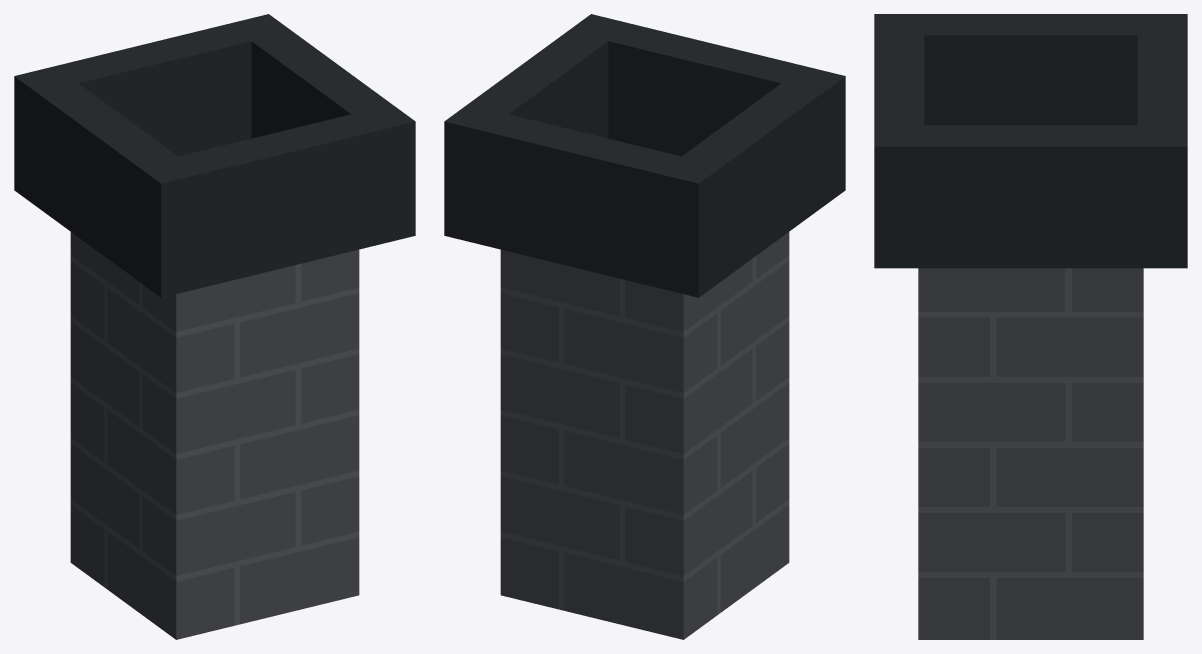
Rendered from Chimney1_C4.fbx.
The picture shows the model from 3 angles, left to right: view 1: azimuth 30°, elevation 25°; view 2: azimuth 150°, elevation 25°; view 3: azimuth 270°, elevation 25°; orthographic projection. The views are drawn at different scales.
Parts seen in each view (by area): view 1: Chimney1_C4; view 2: Chimney1_C4; view 3: Chimney1_C4.
Part boxes in pixels (x1,y1,x2,y2): Chimney1_C4: (14,14,415,639); Chimney1_C4: (444,14,845,639); Chimney1_C4: (874,14,1187,639).
Size of the model in its own units: 55.59 by 100 by 55.59.
